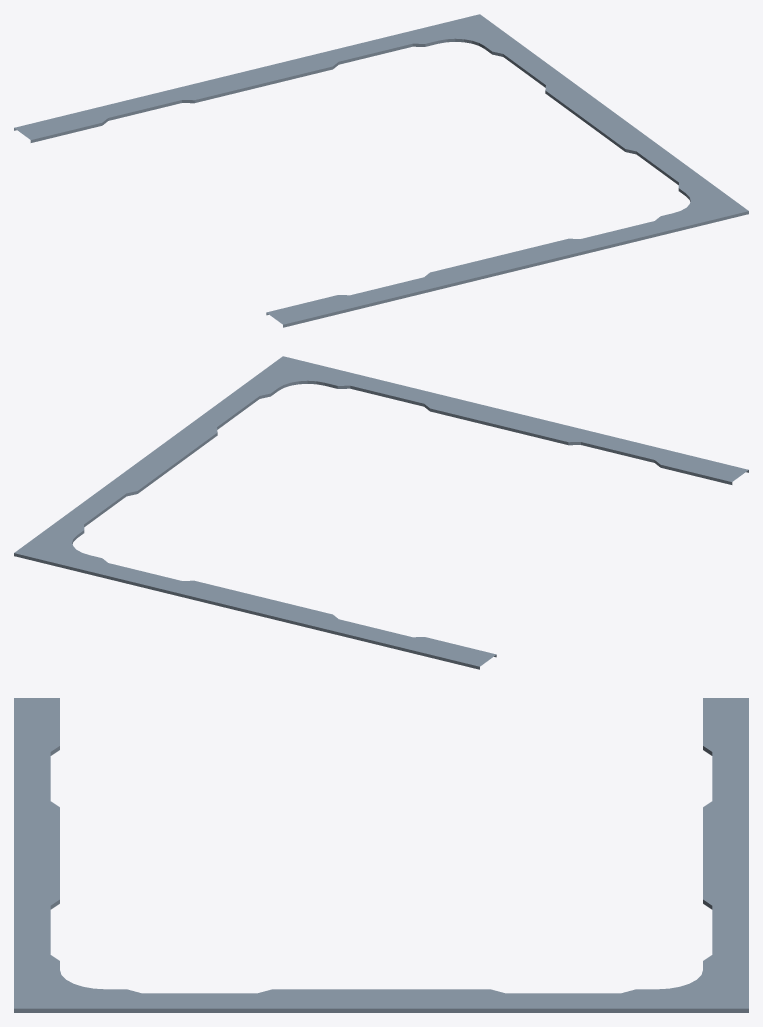
File: RoadSideDeadend.fbx
3 renders of one model, top to bottom at view 1: azimuth 30°, elevation 25°; view 2: azimuth 150°, elevation 25°; view 3: azimuth 270°, elevation 25°, orthographic. The views are drawn at different scales.
Parts seen in each view (by area): view 1: RoadSideDead; view 2: RoadSideDead; view 3: RoadSideDead.
Boxes of the visible parts, <box> form: RoadSideDead: <box>14,14,748,327</box>; RoadSideDead: <box>14,356,748,669</box>; RoadSideDead: <box>14,698,748,1012</box>.
Size of the model in its own units: 1600 by 10 by 1600.
